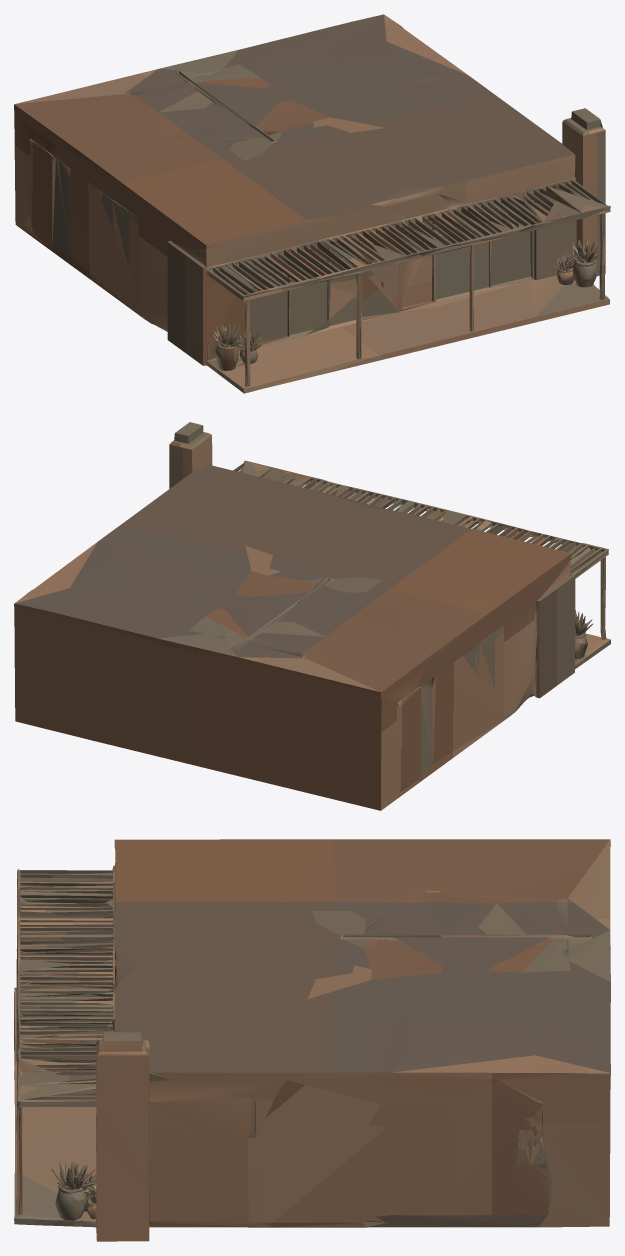
Rendered from restaurant.glb.
3 renders of one model, top to bottom at view 1: azimuth 30°, elevation 25°; view 2: azimuth 150°, elevation 25°; view 3: azimuth 270°, elevation 25°, orthographic. The views are drawn at different scales.
Visible parts, largest first — view 1: LO; view 2: LO; view 3: LO.
Boxes of the visible parts, x1,y1,x2,y2 form: LO: (14, 14, 610, 393); LO: (14, 422, 610, 810); LO: (14, 839, 610, 1241).
Bounding box in the file's own units: 17.2 × 6.37 × 17.3.
Materials: 1 (1 with a texture image).
